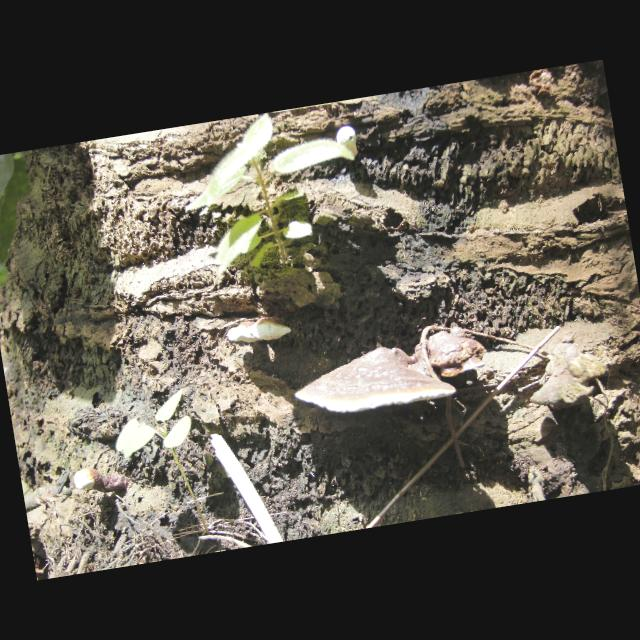ganoderma: (291, 338, 460, 424), (414, 324, 492, 384), (226, 313, 294, 348)
primordium: (336, 125, 362, 160), (73, 467, 104, 494)
